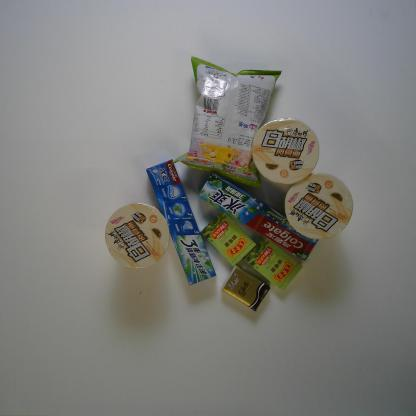Candy: (245, 235, 303, 292), (200, 210, 257, 268)
Instant Noodles: (284, 172, 354, 240), (252, 118, 320, 186), (104, 203, 170, 269)
Personal Hygiene: (198, 171, 319, 262), (145, 159, 217, 286)
Puffed Food: (171, 55, 282, 189)
Tissue: (221, 265, 271, 312)
